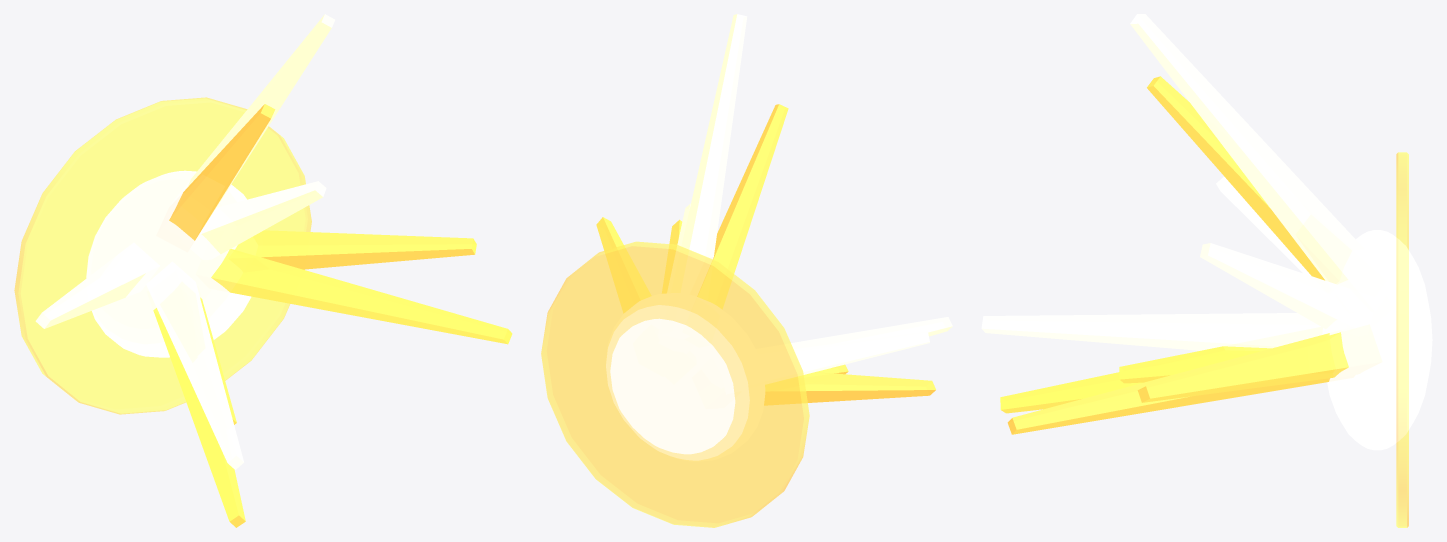
Rendered from impact.glb.
The picture shows the model from 3 angles, left to right: view 1: azimuth 30°, elevation 25°; view 2: azimuth 150°, elevation 25°; view 3: azimuth 270°, elevation 25°; orthographic projection. The views are drawn at different scales.
Visible parts, largest first — view 1: scorch_glow, flash, spark_2, spark_8, spark_5, spark_4, spark_7, spark_3, spark_0, spark_1; view 2: scorch_glow, flash, spark_1, spark_4, spark_0, spark_3, spark_8, spark_5, spark_2; view 3: flash, spark_1, spark_5, spark_8, spark_2, scorch_glow, spark_7, spark_4, spark_0, spark_6, spark_3.
Part boxes in pixels (x1,y1,x2,y2): scorch_glow: (14,97,311,414); flash: (86,170,251,357); spark_2: (211,249,512,344); spark_8: (234,230,476,269); spark_5: (152,272,243,469); spark_4: (169,104,275,240); spark_7: (201,181,326,254); spark_3: (35,255,145,328); spark_0: (153,308,245,527); spark_1: (187,14,334,225); scorch_glow: (541,241,809,527); flash: (606,293,764,461); spark_1: (671,14,747,296); spark_4: (697,104,788,308); spark_0: (764,372,935,405); spark_3: (758,331,929,384); spark_8: (596,217,651,312); spark_5: (756,317,952,353); spark_2: (662,219,682,293); flash: (1322,230,1432,450); spark_1: (1130,14,1364,284); spark_5: (981,313,1322,350); spark_8: (1137,332,1348,402); spark_2: (1007,333,1330,434); scorch_glow: (1396,152,1408,527); spark_7: (1200,243,1342,328); spark_4: (1147,76,1324,280); spark_0: (1000,372,1142,413); spark_6: (1119,346,1271,383); spark_3: (1216,176,1311,275).
Size of the model in its own units: 0.1657 by 0.183 by 0.143.
